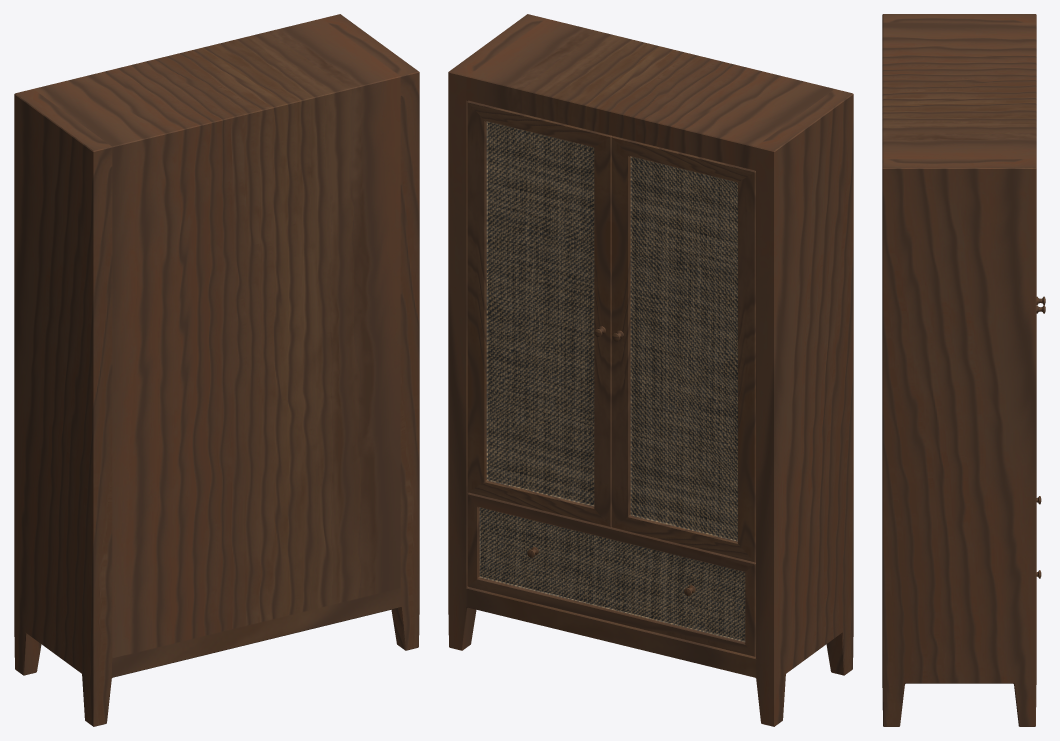
File: wardrobe.glb
The picture shows the model from 3 angles, left to right: view 1: azimuth 30°, elevation 25°; view 2: azimuth 150°, elevation 25°; view 3: azimuth 270°, elevation 25°; orthographic projection. The views are drawn at different scales.
Visible parts, largest first — view 1: Cube.038; view 2: Cube.038; view 3: Cube.038.
Part boxes in pixels (x1,y1,x2,y2): Cube.038: [14, 14, 419, 726]; Cube.038: [448, 14, 853, 726]; Cube.038: [882, 14, 1045, 726].
Bounding box in the file's own units: 1.17 × 1.97 × 0.52.
Materials: 1 (1 with a texture image).
